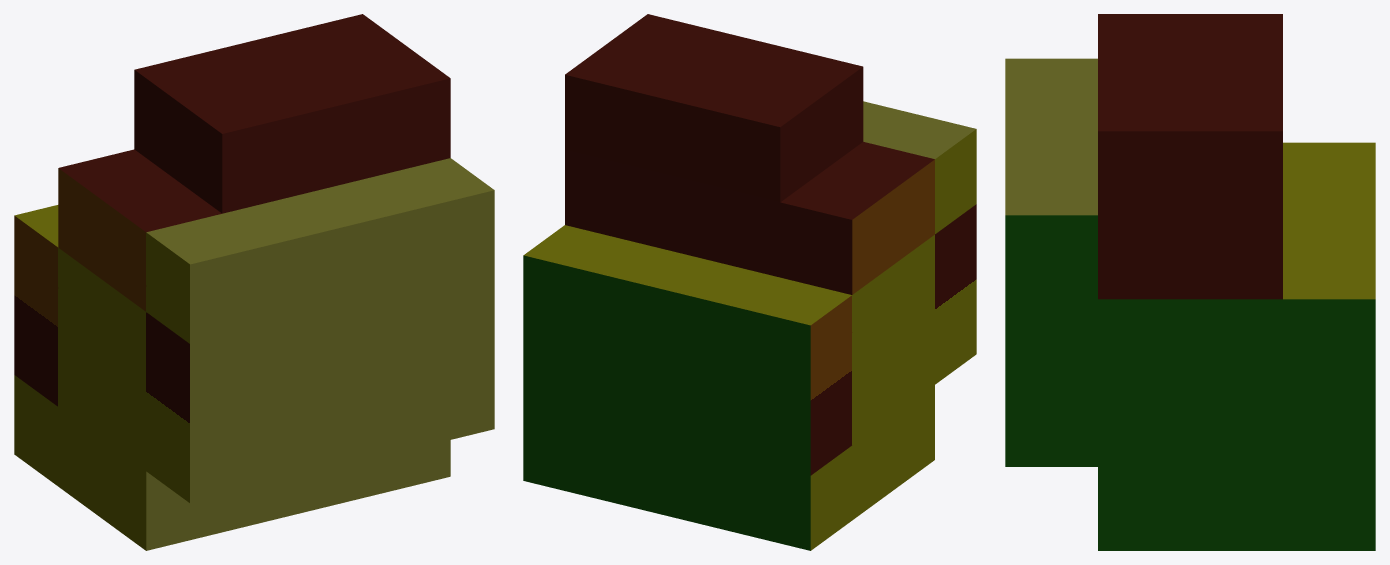
Rendered from block_37.fbx.
3 renders of one model, left to right at view 1: azimuth 30°, elevation 25°; view 2: azimuth 150°, elevation 25°; view 3: azimuth 270°, elevation 25°, orthographic. The views are drawn at different scales.
Parts seen in each view (by area): view 1: Box; view 2: Box; view 3: Box.
Boxes of the visible parts, x1,y1,x2,y2 form: Box: [14, 14, 494, 550]; Box: [523, 14, 976, 550]; Box: [1005, 14, 1375, 550].
Bounding box in the file's own units: 400 × 500 × 400.
1 material, 1 textured.
